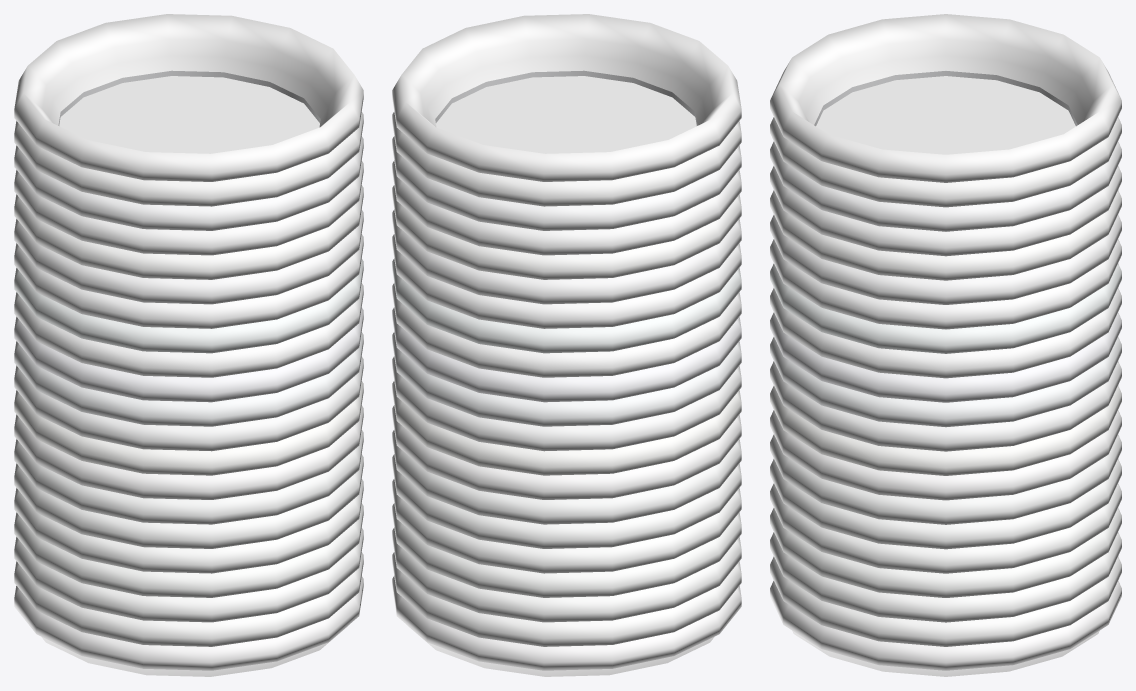
Rendered from Plates LOD0.fbx.
The picture shows the model from 3 angles, left to right: view 1: azimuth 30°, elevation 25°; view 2: azimuth 150°, elevation 25°; view 3: azimuth 270°, elevation 25°; orthographic projection.
Visible parts, largest first — view 1: Circle.016; view 2: Circle.016; view 3: Circle.016.
Boxes of the visible parts, box(x1,y1,x2,y2) form: Circle.016: box(14, 14, 363, 676); Circle.016: box(392, 14, 741, 676); Circle.016: box(770, 14, 1121, 676).
Bounding box in the file's own units: 23.32 × 38.24 × 23.32.
